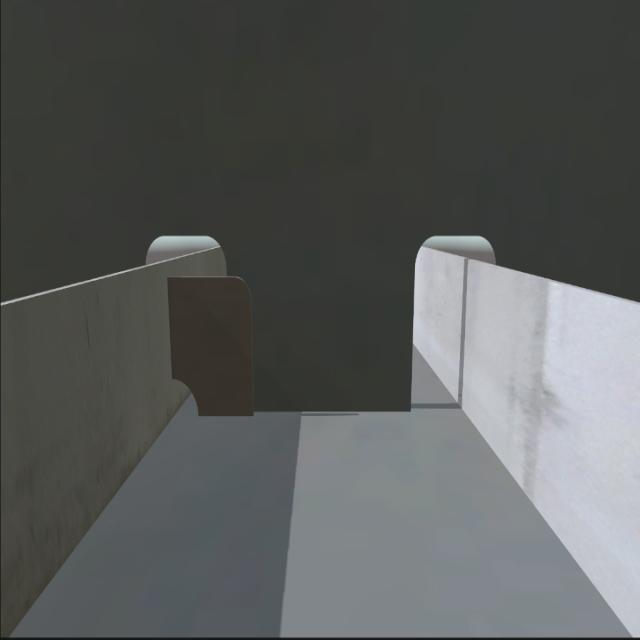fillet_hole: (173, 376, 200, 419)
fillet_yong_jeop_jang: (196, 403, 416, 418)
longi_yong_jeop_jang: (162, 270, 180, 382)
plate_CP05: (170, 276, 255, 416)
